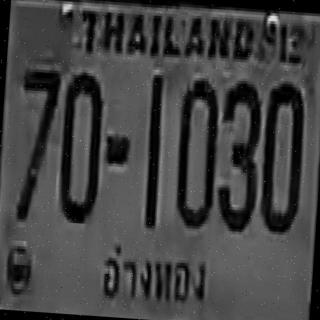N00: (56, 67, 106, 220), (258, 79, 305, 231), (172, 76, 219, 226)
N01: (140, 72, 164, 226)
N03: (215, 76, 262, 228)
N07: (12, 64, 60, 217)
P02: (97, 236, 213, 315)
